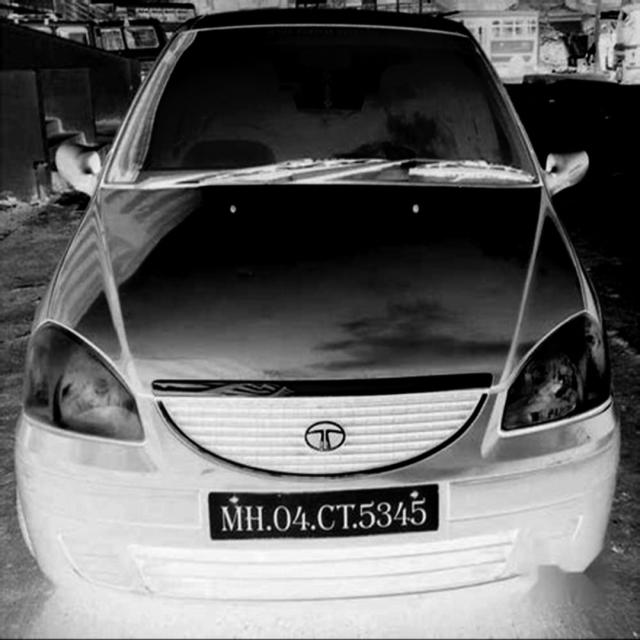Non_registered: (212, 492, 443, 538)
